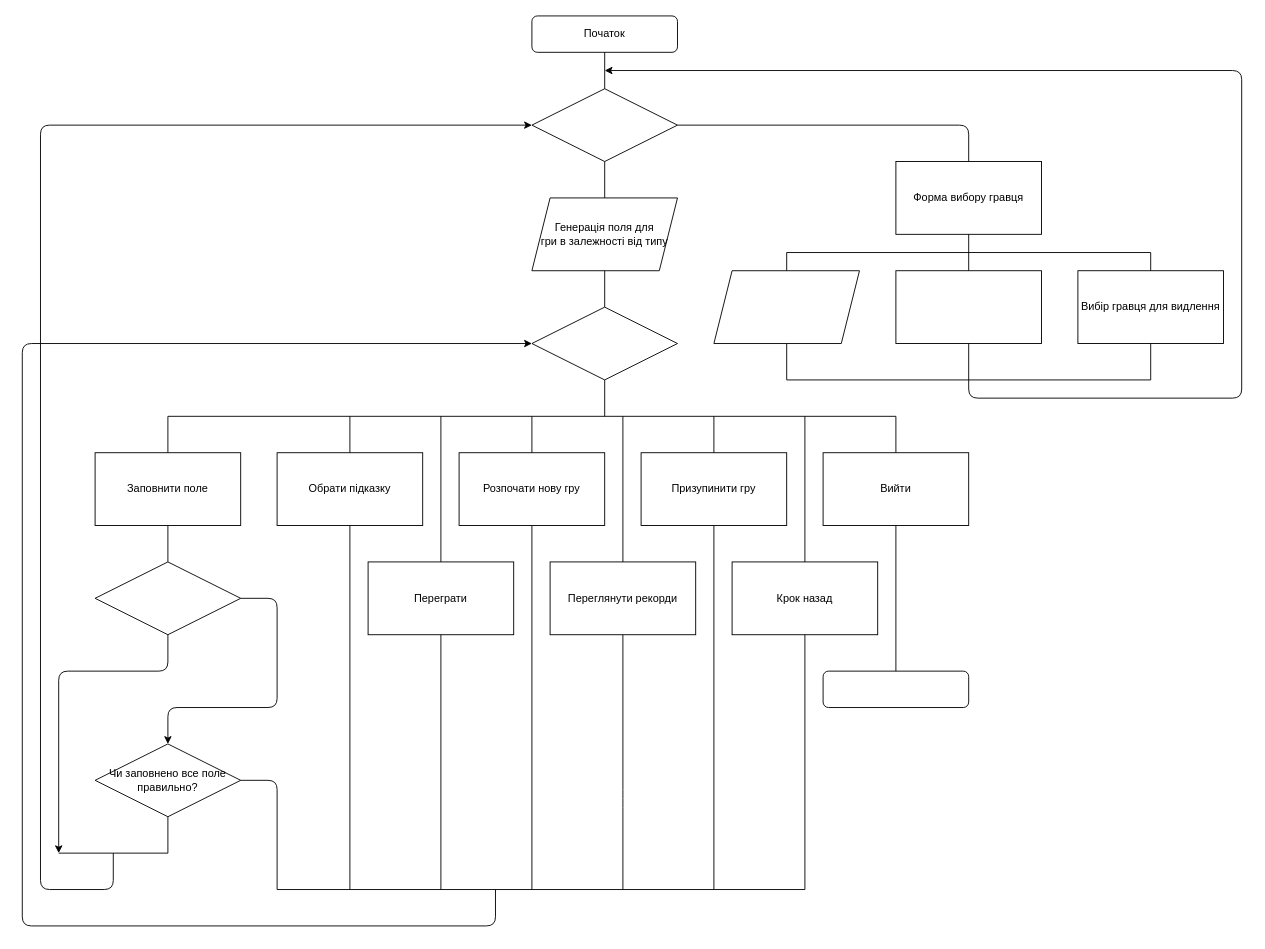
This 1265x949 diagram has some shape labels left out. The shapes that lost their labels are listed below. From the top down, each one's centre as x and y in pixels, then its label:
At pixel 604 125: "Вибір типу гри".
At pixel 786 307: "Створити нового гравця".
At pixel 968 307: "Вибір гравця для гри".
At pixel 604 343: "Вибір операції".
At pixel 167 598: "Чи зроблено 3 помилки?".
At pixel 895 689: "Кінець".
